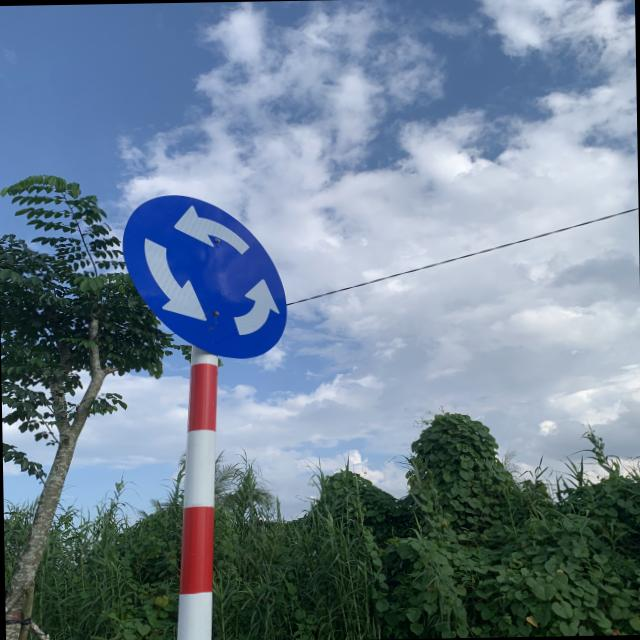Xe_Bus: (122, 192, 288, 362)
